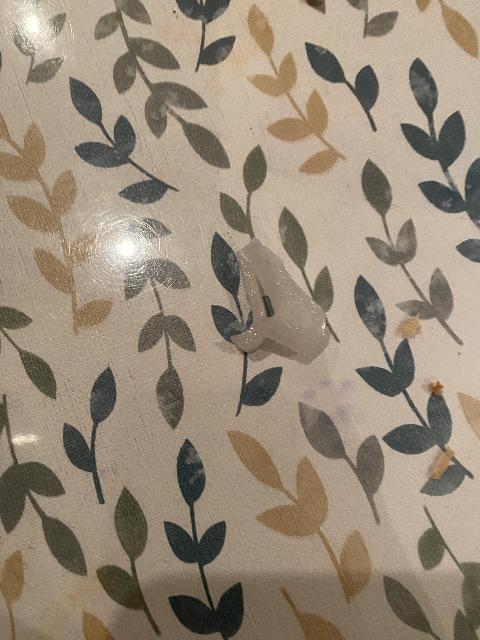Organik: (230, 237, 340, 360)
